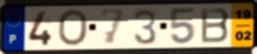3: (132, 7, 158, 46)
4: (27, 10, 54, 47)
5: (169, 6, 197, 46)
7: (99, 8, 126, 47)
B: (200, 7, 232, 45)
O: (57, 8, 90, 47)
